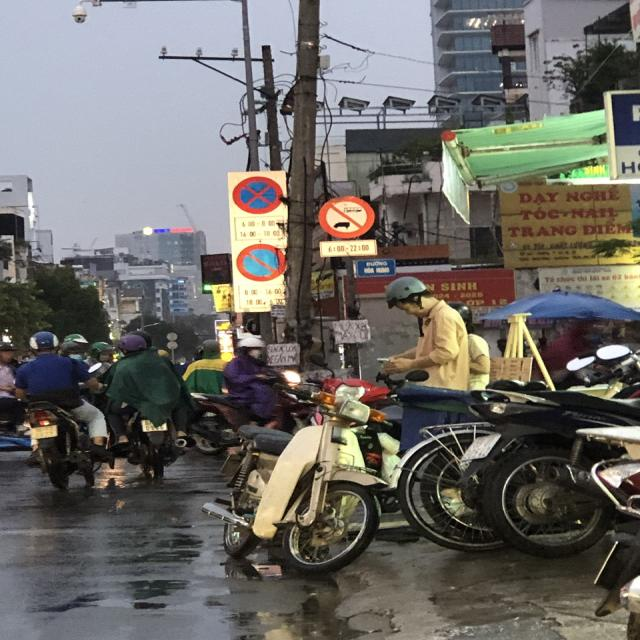Bien bao cam dung xe va do xe: (230, 173, 288, 217)
Bien bao cam xe oto khach va xe oto tai: (314, 192, 378, 240)
